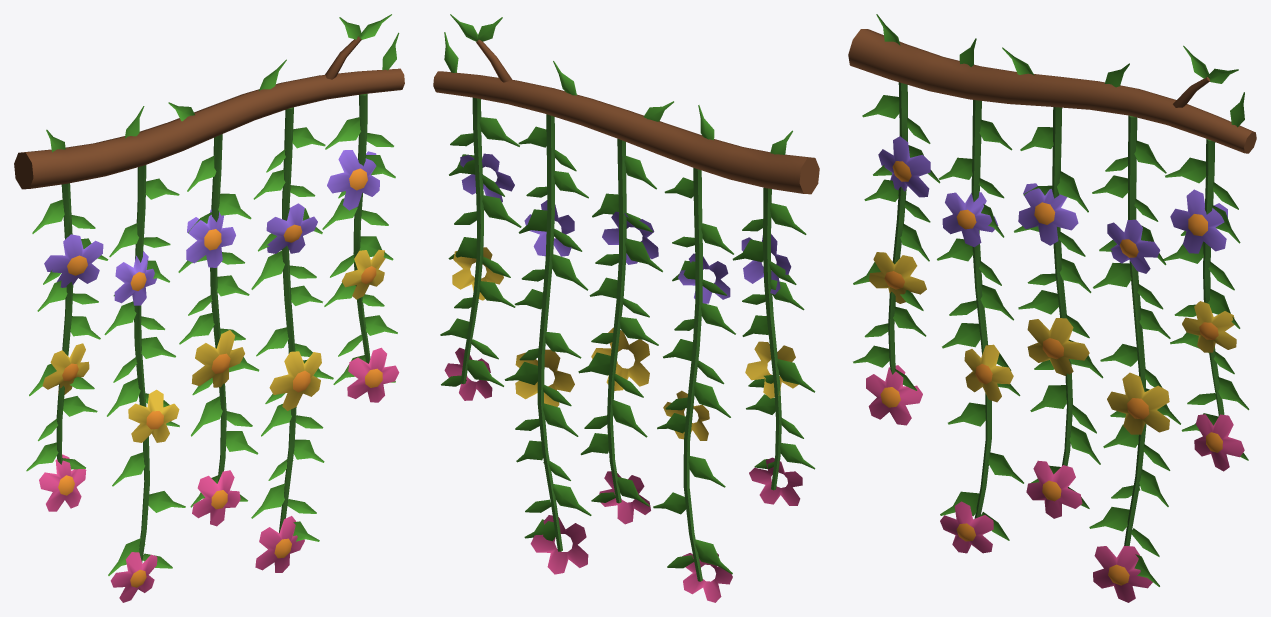
File: flower-vine.glb
3 renders of one model, left to right at view 1: azimuth 30°, elevation 25°; view 2: azimuth 150°, elevation 25°; view 3: azimuth 330°, elevation 25°, orthographic. The views are drawn at different scales.
Parts seen in each view (by area): view 1: Vine Vine leaves, Vine Vine branch bark, Vine Vine stem, Vine Flower lilac, Vine Flower gold, Vine Flower pink, Vine Flower heart; view 2: Vine Vine leaves, Vine Vine stem, Vine Vine branch bark, Vine Flower pink, Vine Flower gold, Vine Flower lilac; view 3: Vine Vine leaves, Vine Vine branch bark, Vine Vine stem, Vine Flower gold, Vine Flower lilac, Vine Flower pink, Vine Flower heart.
Part boxes in pixels (x1,y1,x2,y2): Vine Vine leaves: [26, 14, 399, 575]; Vine Vine branch bark: [14, 36, 404, 189]; Vine Vine stem: [56, 93, 370, 562]; Vine Flower lilac: [44, 150, 379, 305]; Vine Flower gold: [42, 249, 385, 442]; Vine Flower pink: [39, 347, 399, 602]; Vine Flower heart: [58, 168, 382, 587]; Vine Vine leaves: [440, 14, 815, 574]; Vine Vine stem: [460, 97, 781, 581]; Vine Vine branch bark: [433, 39, 819, 194]; Vine Flower pink: [444, 347, 802, 602]; Vine Flower gold: [452, 247, 798, 440]; Vine Flower lilac: [460, 153, 791, 303]; Vine Vine leaves: [853, 14, 1249, 586]; Vine Vine branch bark: [848, 29, 1256, 153]; Vine Vine stem: [888, 82, 1224, 546]; Vine Flower gold: [869, 252, 1236, 434]; Vine Flower lilac: [878, 136, 1227, 273]; Vine Flower pink: [866, 365, 1244, 602]; Vine Flower heart: [880, 161, 1222, 585].
Size of the model in its own units: 3.07 by 4.23 by 0.2899.
